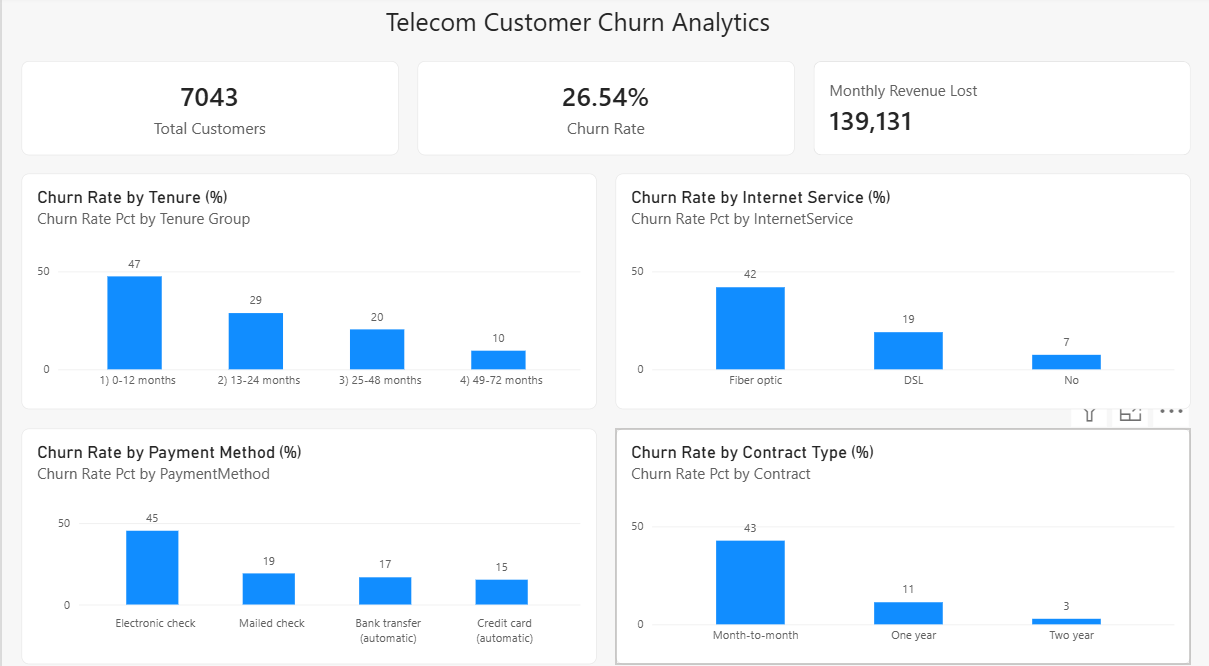

This screenshot's page, from the dashboard's own definition file:
{"tool":"powerbi","page":{"name":"Page 1","canvas":[1280,720],"ordinal":0},"visuals":[{"type":"card","fields":{"Values":["telco_customers.Total Customers"]},"box":[20,70,400,100],"z":0},{"type":"card","fields":{"Values":["telco_customers.Churn Rate Display"]},"box":[440,70,400,100],"z":1000},{"type":"cardVisual","fields":{"Data":["telco_customers.Revenue Lost Display"]},"box":[860,70,400,100],"z":2000},{"type":"clusteredColumnChart","title":"Churn Rate by Contract Type (%)","fields":{"Category":["telco_customers.Contract"],"Y":["telco_customers.Churn Rate Pct"]},"box":[650,460,610,250],"z":3000},{"type":"clusteredColumnChart","title":"Churn Rate by Internet Service (%)","fields":{"Category":["telco_customers.InternetService"],"Y":["telco_customers.Churn Rate Pct"]},"box":[650,190,610,250],"z":4000},{"type":"clusteredColumnChart","title":"Churn Rate by Payment Method (%)","fields":{"Category":["telco_customers.PaymentMethod"],"Y":["telco_customers.Churn Rate Pct"]},"box":[20,460,610,250],"z":5000},{"type":"clusteredColumnChart","title":"\tChurn Rate by Tenure (%)","fields":{"Category":["telco_customers.Tenure Group"],"Y":["telco_customers.Churn Rate Pct"]},"box":[20,190,610,250],"z":6000},{"type":"textbox","box":[20,10,1180,50],"z":6001}]}

Visuals, with their boxes in screenshot pixels (x1, y1, x2, y2), scaled from the page's 1280x720 canvas onto the 1209x666 screenshot:
card - telco_customers.Total Customers: {"x1": 19, "y1": 65, "x2": 397, "y2": 157}
card - telco_customers.Churn Rate Display: {"x1": 416, "y1": 65, "x2": 793, "y2": 157}
cardVisual - telco_customers.Revenue Lost Display: {"x1": 812, "y1": 65, "x2": 1190, "y2": 157}
"Churn Rate by Contract Type (%)" clusteredColumnChart: {"x1": 614, "y1": 426, "x2": 1190, "y2": 657}
"Churn Rate by Internet Service (%)" clusteredColumnChart: {"x1": 614, "y1": 176, "x2": 1190, "y2": 407}
"Churn Rate by Payment Method (%)" clusteredColumnChart: {"x1": 19, "y1": 426, "x2": 595, "y2": 657}
"	Churn Rate by Tenure (%)" clusteredColumnChart: {"x1": 19, "y1": 176, "x2": 595, "y2": 407}
textbox: {"x1": 19, "y1": 9, "x2": 1133, "y2": 56}
